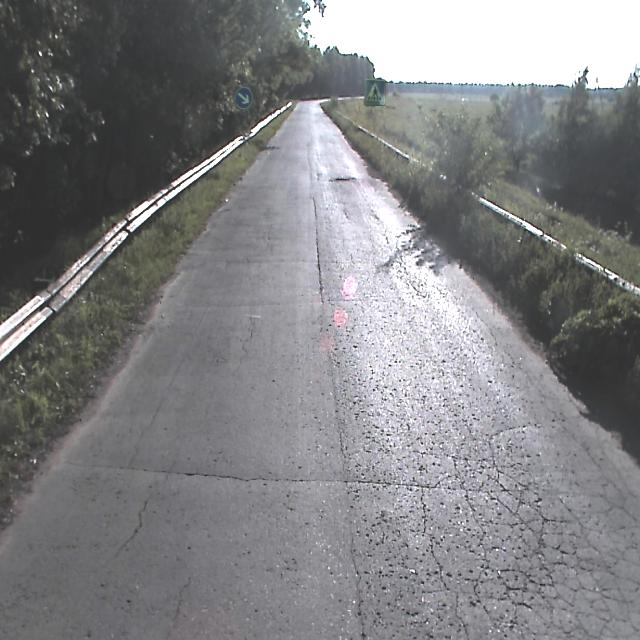road: (0, 98, 639, 639)
